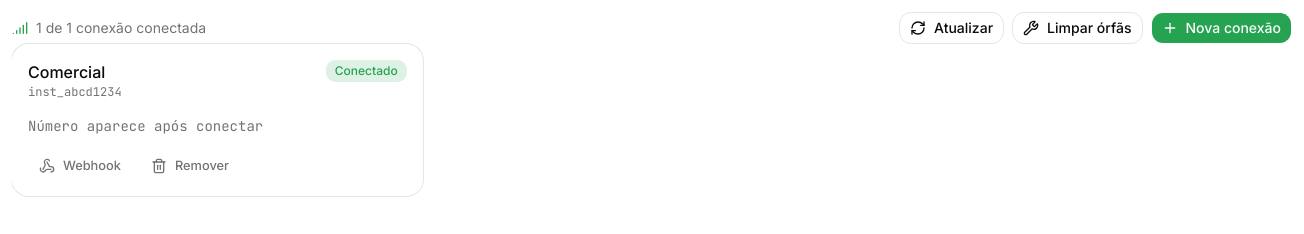
instâncias órfãs › remoção que deixou órfã avisa em vez de fingir sucesso
Click the button with aria-label "Remover Comercial" at (190, 166), box [140,152,240,180]
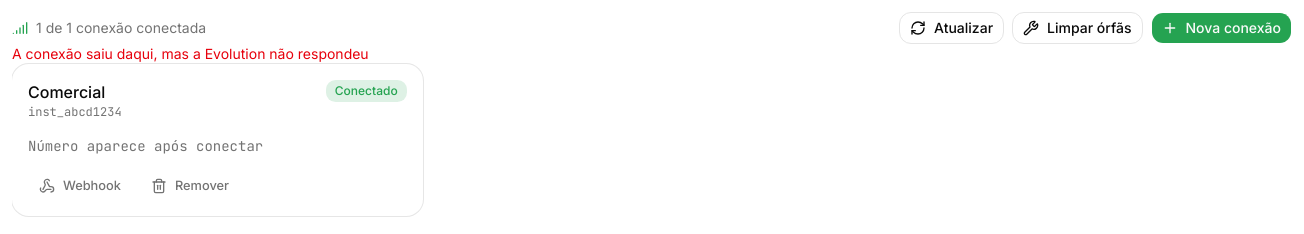
Result: the message shows "a Evolution não respondeu" at [12,45,369,62]
